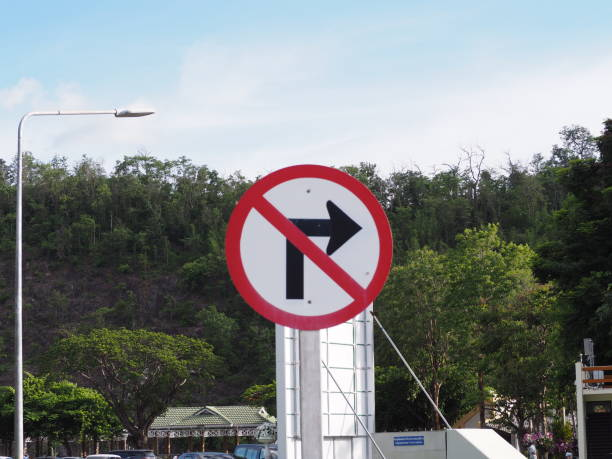saga_donulmez: (223, 165, 396, 337)
